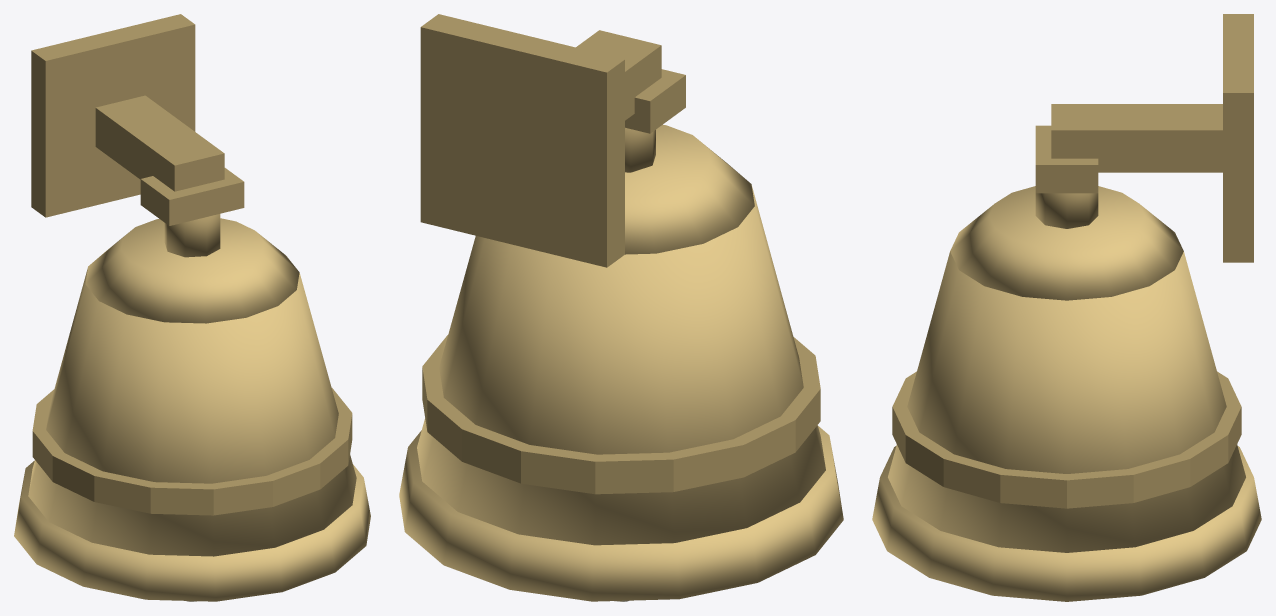
File: scrap_ship_bell.fbx
3 views of the same model, side by side, from view 1: azimuth 30°, elevation 25°; view 2: azimuth 150°, elevation 25°; view 3: azimuth 270°, elevation 25° (orthographic). The views are drawn at different scales.
Visible parts, largest first — view 1: scrap_ship_bell; view 2: scrap_ship_bell; view 3: scrap_ship_bell.
Part boxes in pixels (<box>): scrap_ship_bell: <box>14,14,370,601</box>; scrap_ship_bell: <box>399,14,843,601</box>; scrap_ship_bell: <box>872,14,1261,601</box>.
Bounding box in the file's own units: 0.25 × 0.388 × 0.25.
